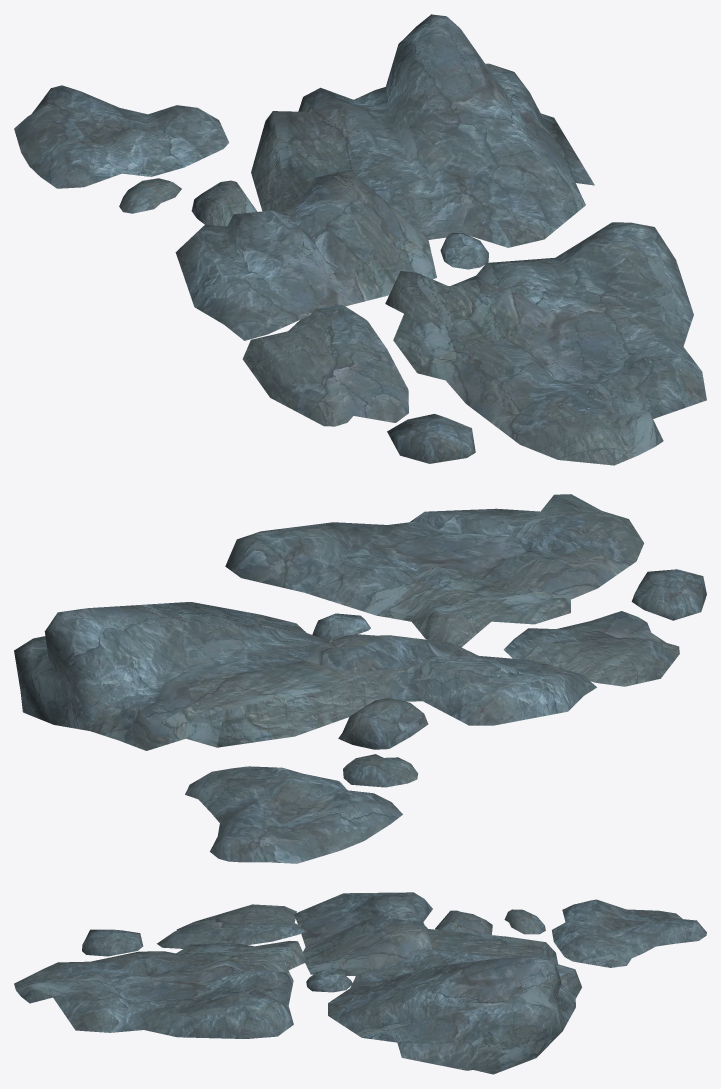
File: tesv_glacierrubbletrim02_2-transformed.glb
3 views of the same model, one above another, from view 1: azimuth 30°, elevation 25°; view 2: azimuth 150°, elevation 25°; view 3: azimuth 270°, elevation 25° (orthographic). The views are drawn at different scales.
Parts seen in each view (by area): view 1: glacierrubbletrim02.002; view 2: glacierrubbletrim02.002; view 3: glacierrubbletrim02.002.
Part boxes in pixels (left/top/right/bottom): glacierrubbletrim02.002: left=14, top=14, right=706, bottom=465; glacierrubbletrim02.002: left=14, top=494, right=706, bottom=863; glacierrubbletrim02.002: left=14, top=892, right=706, bottom=1074.
Size of the model in its own units: 10.89 by 3.02 by 19.72.
Materials: 1 (1 with a texture image).
